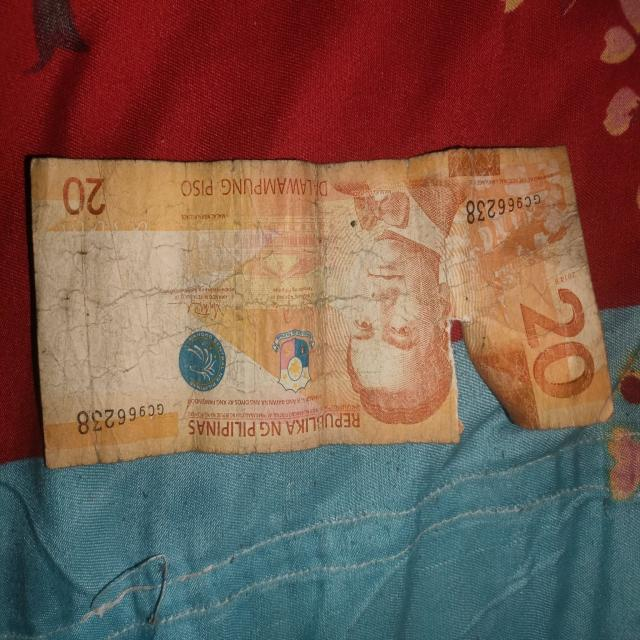broken: (26, 144, 618, 470)
torn: (431, 299, 543, 475)
